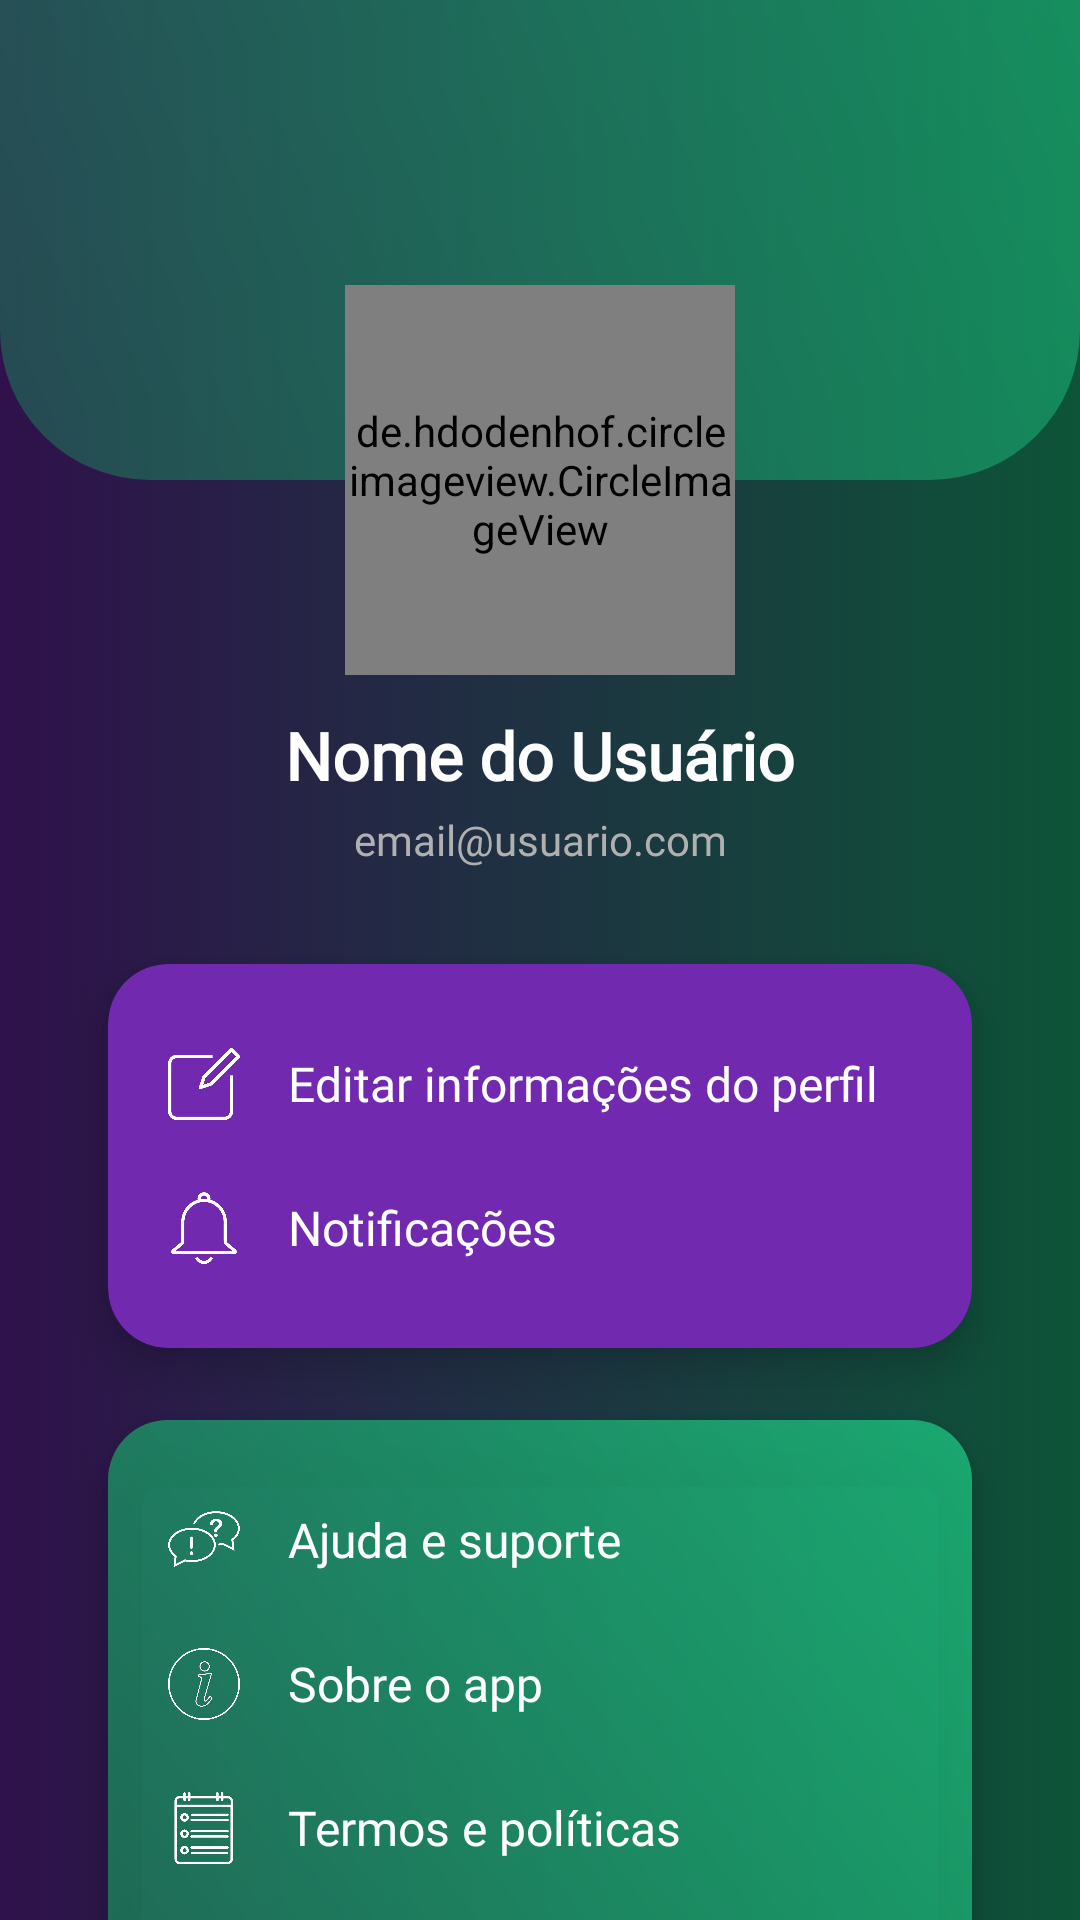

Icons on this 1080 × 1920 Android screen, each with its box as (x1, y1, x2, y2):
notificacoes: (171, 1192, 237, 1264)
